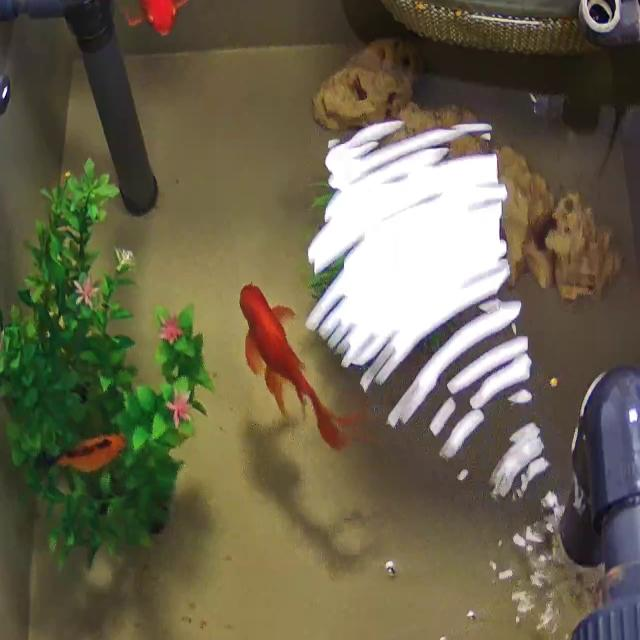fish: (242, 282, 347, 451), (51, 433, 129, 475), (125, 0, 188, 36)
